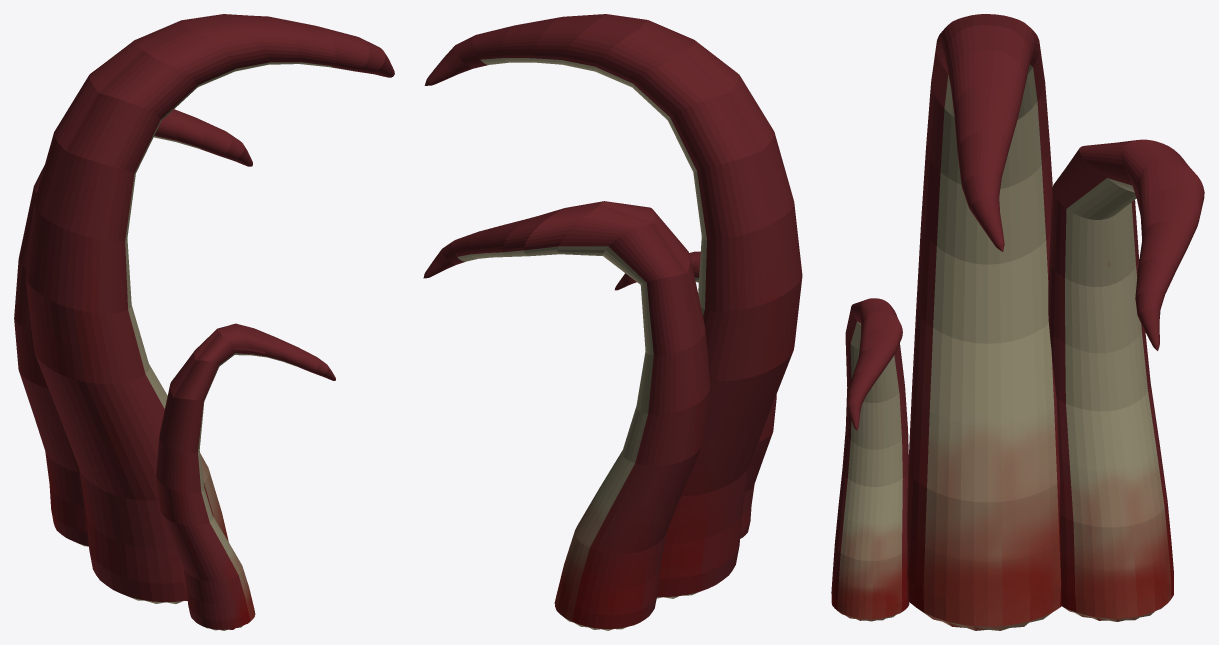
Rendered from tentacles 1.fbx.
3 renders of one model, left to right at view 1: azimuth 30°, elevation 25°; view 2: azimuth 150°, elevation 25°; view 3: azimuth 270°, elevation 25°, orthographic. The views are drawn at different scales.
Visible parts, largest first — view 1: Cylinder, Cylinder.002, Cylinder.001; view 2: Cylinder, Cylinder.001, Cylinder.002; view 3: Cylinder, Cylinder.001, Cylinder.002.
Boxes of the visible parts, left/top/right/bottom form: Cylinder: left=25, top=14, right=394, bottom=603; Cylinder.002: left=156, top=323, right=335, bottom=630; Cylinder.001: left=14, top=109, right=252, bottom=546; Cylinder: left=424, top=14, right=802, bottom=598; Cylinder.001: left=423, top=201, right=710, bottom=630; Cylinder.002: left=615, top=251, right=776, bottom=538; Cylinder: left=907, top=14, right=1061, bottom=630; Cylinder.001: left=1048, top=139, right=1204, bottom=621; Cylinder.002: left=831, top=298, right=909, bottom=621.
Size of the model in its own units: 1.18 by 1.7 by 0.9655.
1 material, 1 textured.
